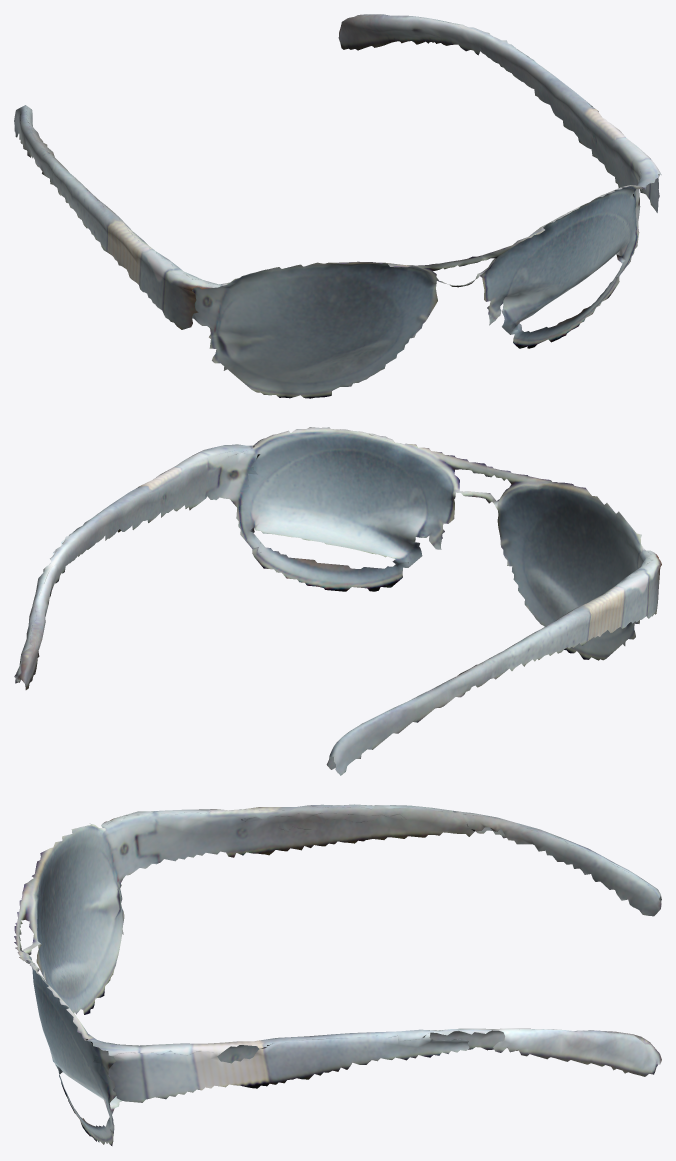
Rendered from scan_align.obj.
The picture shows the model from 3 angles, top to bottom: view 1: azimuth 30°, elevation 25°; view 2: azimuth 150°, elevation 25°; view 3: azimuth 270°, elevation 25°; orthographic projection. The views are drawn at different scales.
Size of the model in its own units: 0.1442 by 0.0434 by 0.1591.
1 material, 1 textured.
